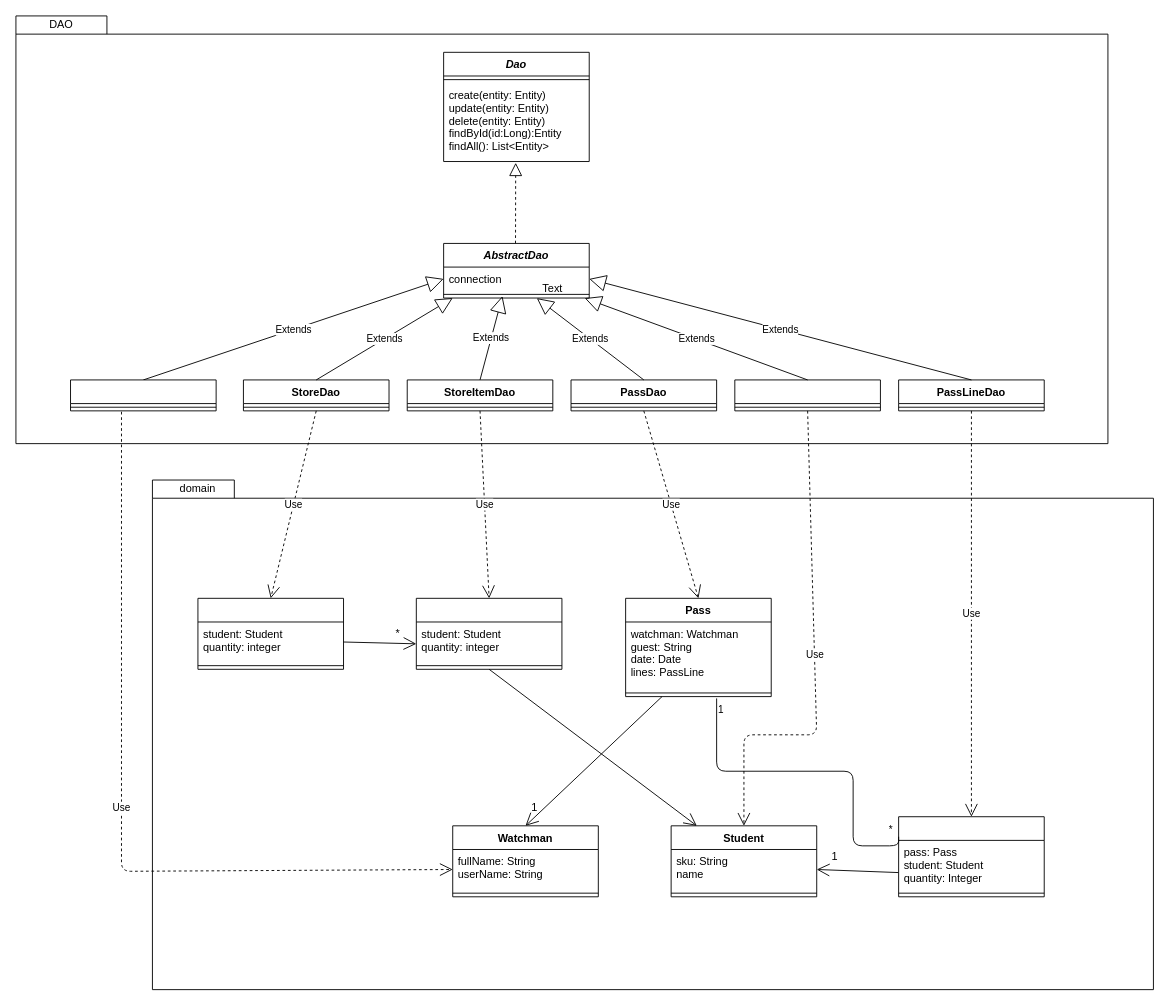
The diagram is 1169 pixels wide and 1006 high, and some of its shapes have lost their labels. Here are the shapes that lost their labels. From the top down, the box of each, then its label:
(70, 379, 216, 411): WatchmanDao
(734, 379, 880, 411): StudentDao
(197, 597, 344, 669): Store
(415, 597, 562, 669): StoreItem
(898, 816, 1044, 897): PassLine
